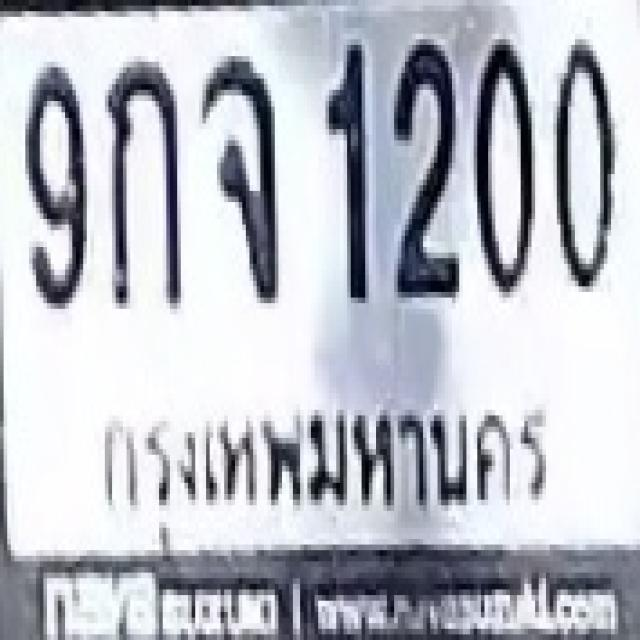-: (105, 56, 181, 309), (199, 54, 275, 300)
0: (472, 34, 533, 292), (551, 34, 613, 286)
1: (322, 40, 365, 298)
2: (390, 36, 456, 294)
9: (22, 62, 86, 309)
BKK: (86, 387, 564, 549)
